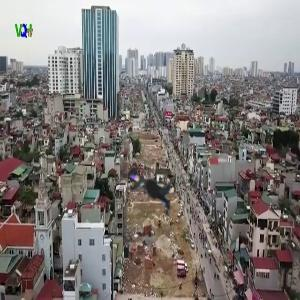drone: (37, 70, 260, 293)
